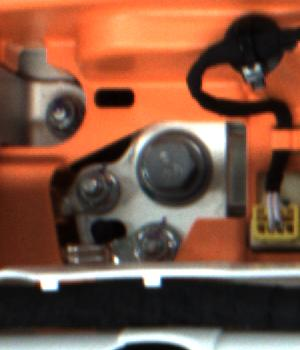nut_b: (136, 130, 210, 203)
